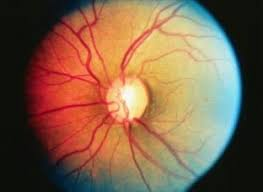Glaucoma section-1: (118, 85, 141, 113)
Glaucoma section-2: (105, 76, 152, 124)
